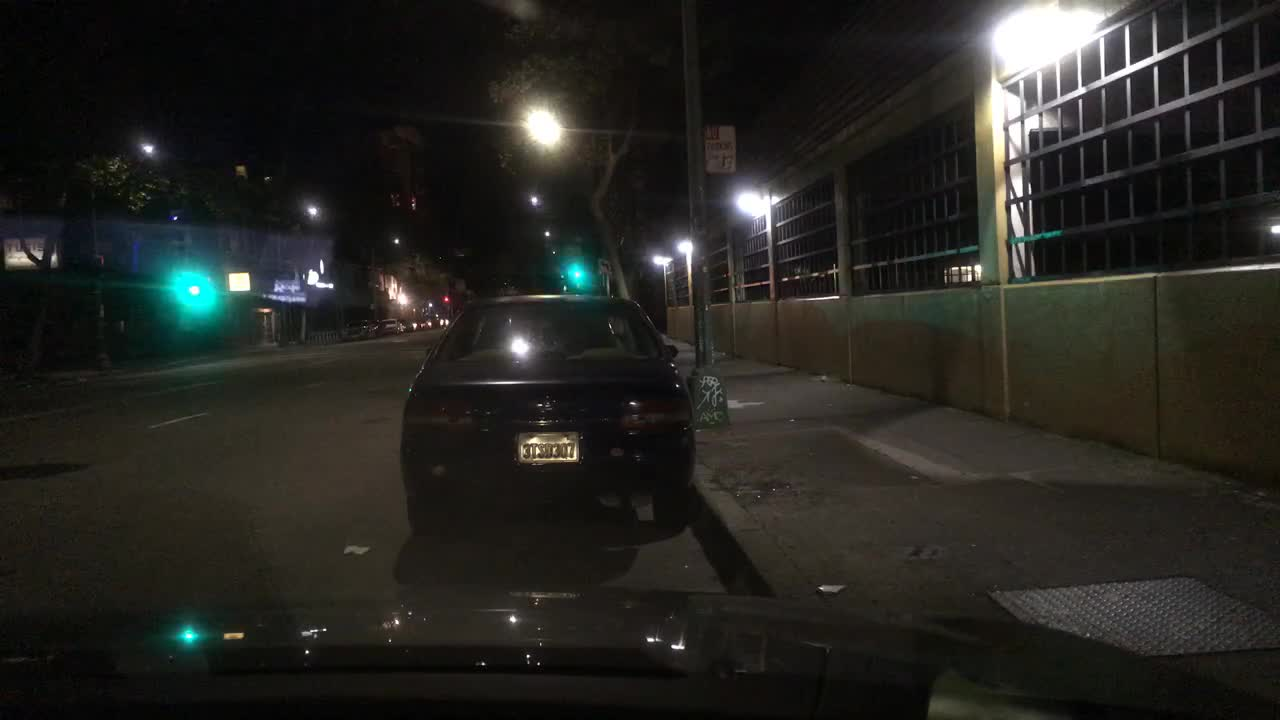car: (401, 290, 693, 529), (370, 316, 407, 335), (408, 315, 444, 329)
traffic light: (183, 280, 200, 304), (436, 293, 453, 307), (572, 267, 584, 283)
